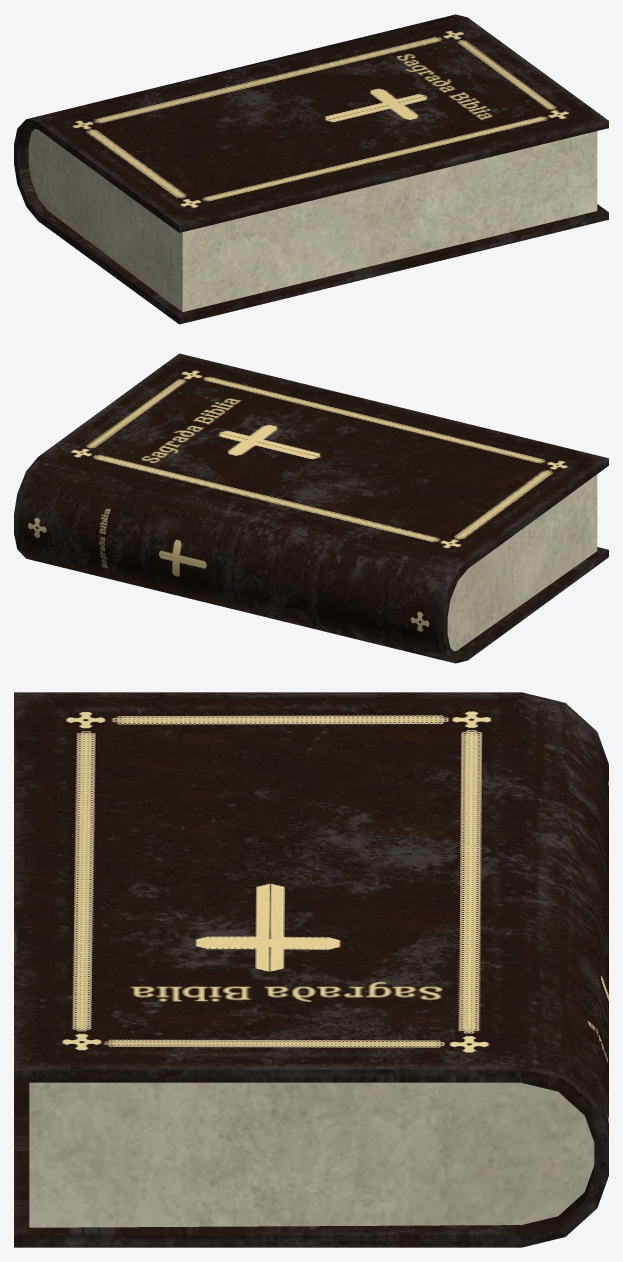
Rendered from bible.glb.
3 views of the same model, one above another, from view 1: azimuth 30°, elevation 25°; view 2: azimuth 150°, elevation 25°; view 3: azimuth 270°, elevation 25° (orthographic). The views are drawn at different scales.
Parts seen in each view (by area): view 1: Object_2; view 2: Object_2; view 3: Object_2.
Part boxes in pixels (bbox=[...]): Object_2: bbox=[14, 14, 608, 324]; Object_2: bbox=[14, 353, 608, 663]; Object_2: bbox=[14, 692, 608, 1247].
Size of the model in its own units: 0.6572 by 0.1445 by 0.4381.
Materials: 1 (1 with a texture image).
